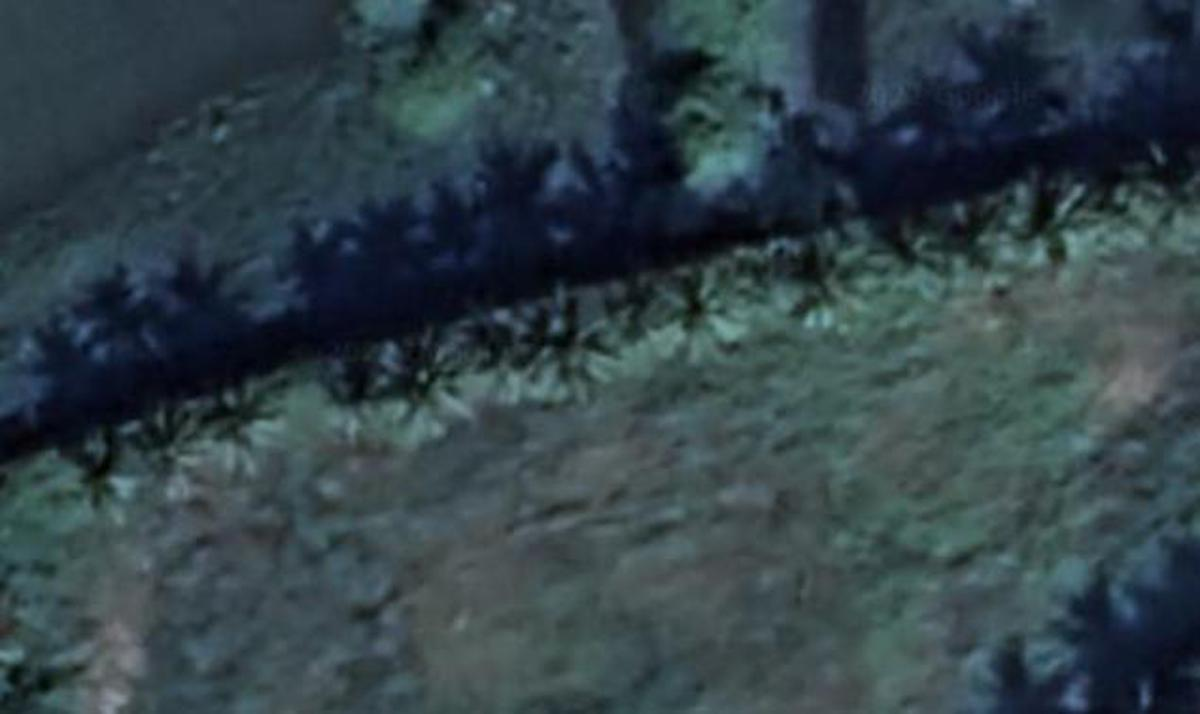coconut: (519, 287, 614, 408), (359, 338, 466, 438), (780, 236, 880, 336), (992, 177, 1090, 270), (115, 404, 207, 502), (873, 205, 958, 304), (646, 266, 742, 351), (202, 379, 287, 464), (56, 440, 134, 523), (1122, 160, 1196, 247), (453, 302, 531, 381), (714, 249, 788, 315)
